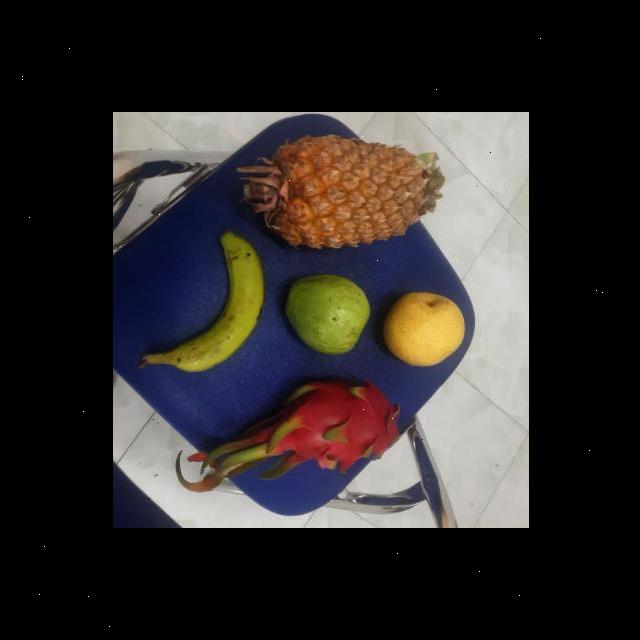banana: (159, 240, 263, 374)
guava: (286, 274, 366, 359)
pear: (382, 290, 462, 373)
pineapple: (234, 134, 438, 252)
pitaya: (277, 376, 401, 474)
